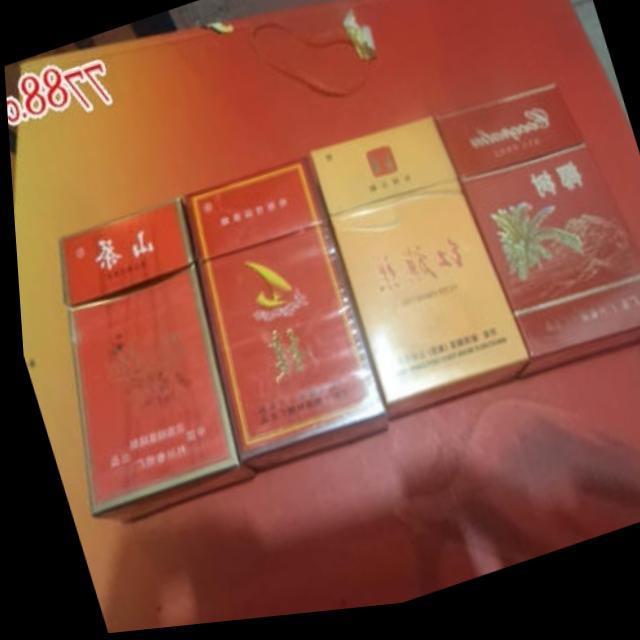box: (307, 122, 526, 428), (181, 160, 383, 478), (55, 200, 249, 525), (430, 93, 640, 389)
